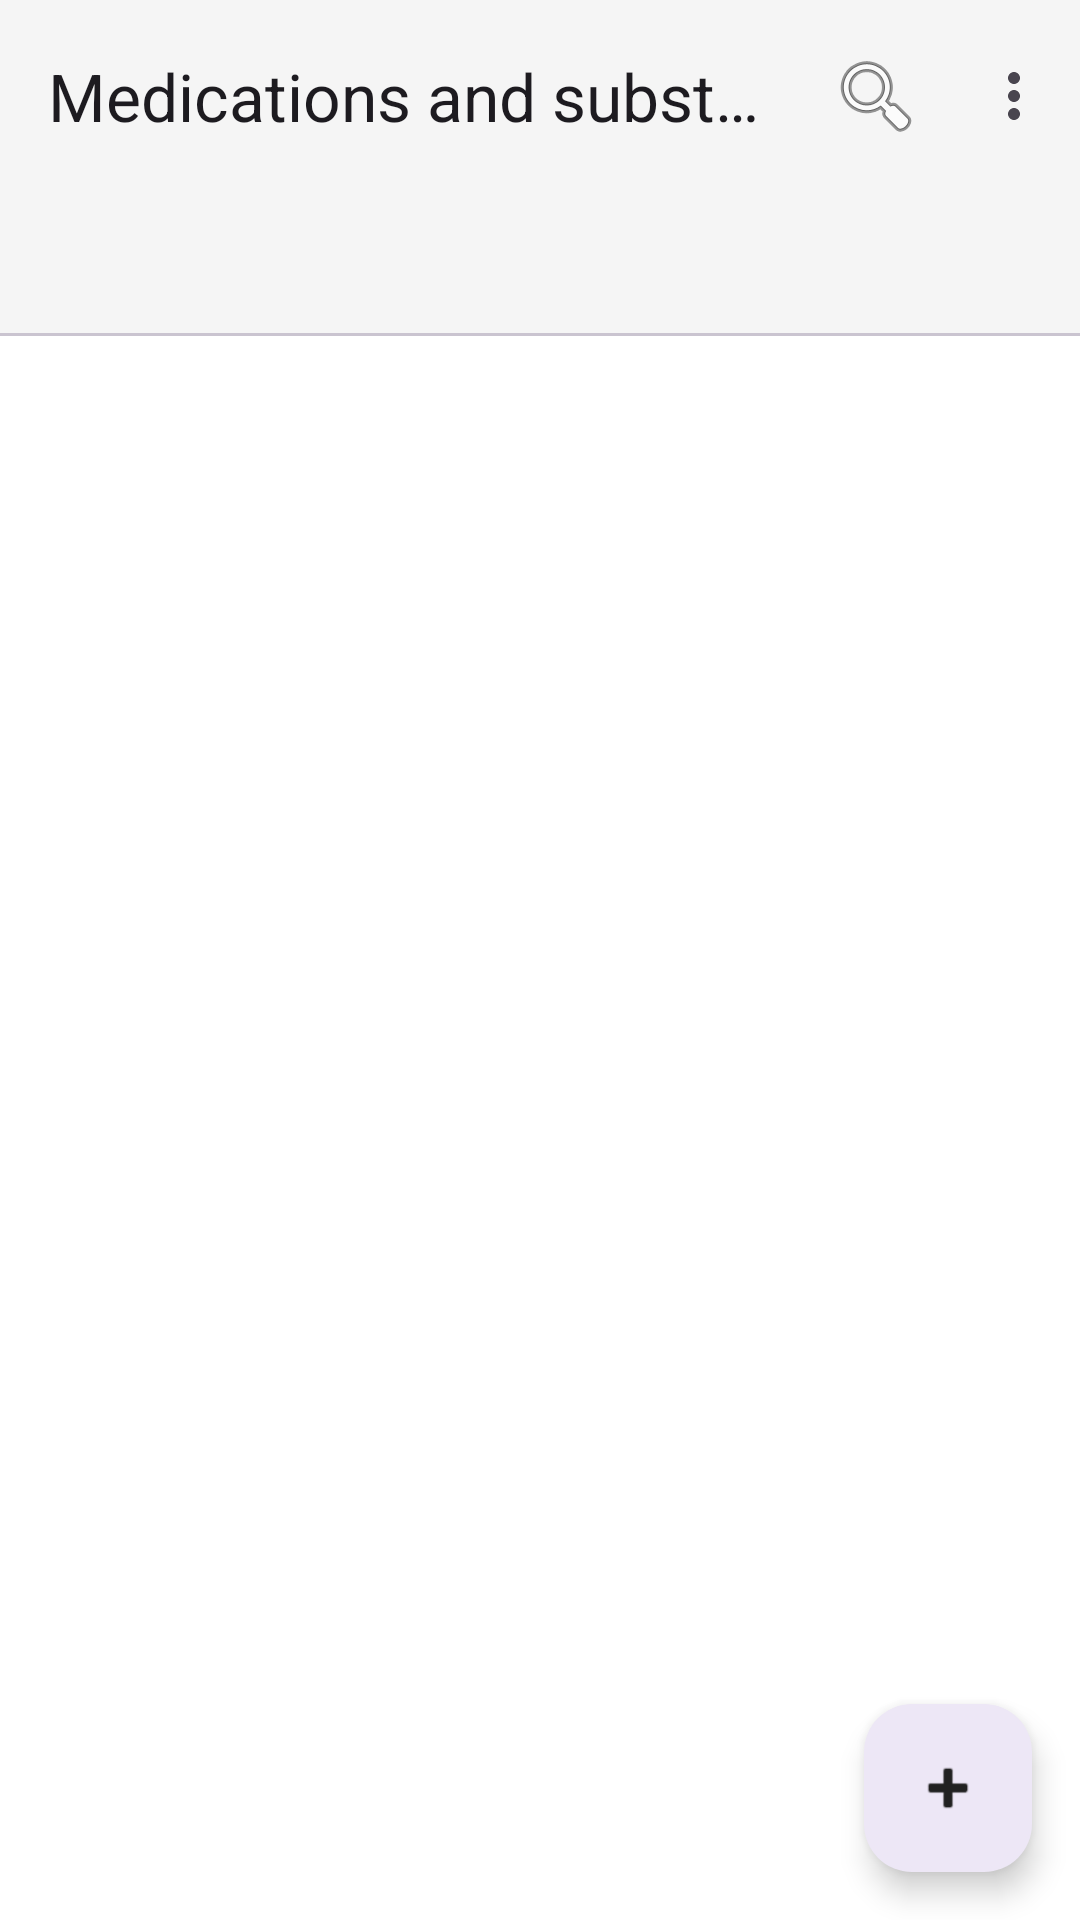

Icons on this 1080w x 1920h Android screen, each with the point to tap as point (x, y):
Add / edit: point (948, 1788)
